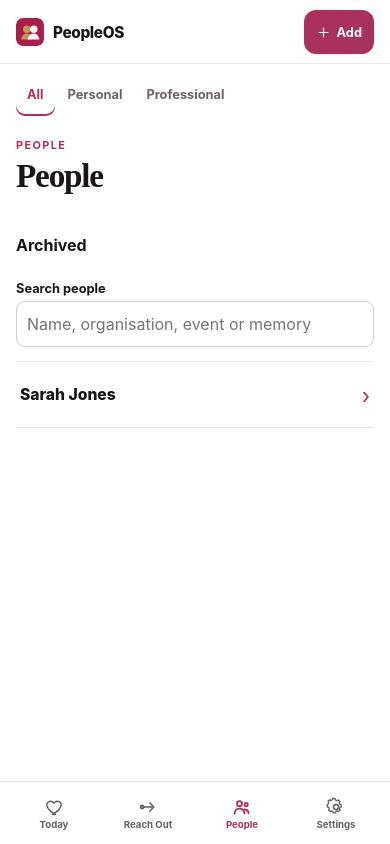
Test case: simple Profile and Person lifecycle UI › preserves People directory search and scroll after opening a Profile
In the search field labelled "Search people": [195, 324] box [16,302,374,348], type "Sarah"
(page scrolled)
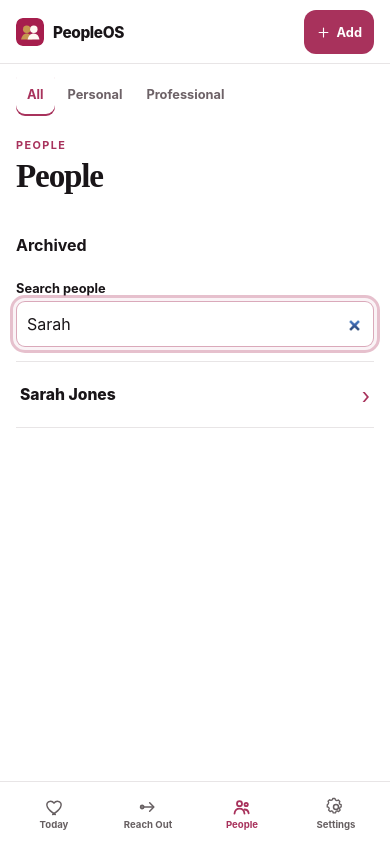
Click the link "Sarah Jones": [68, 395] box [16,362,374,428]
(page scrolled)
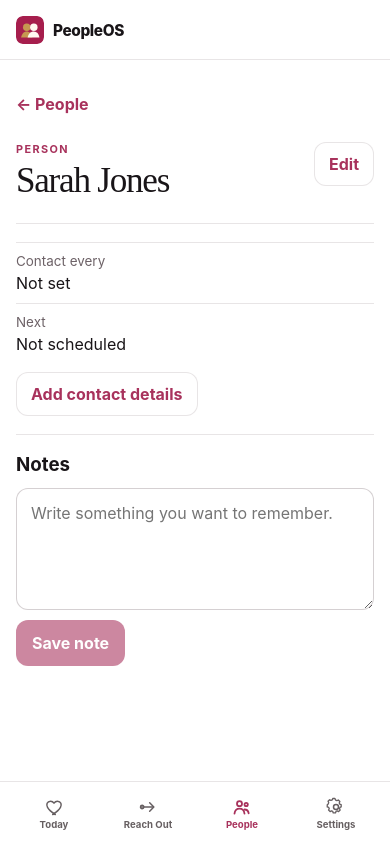
Check: the heading "Sarah Jones" is shown, box [16,163,169,199]
Click the button "← People": [52, 104] box [16,82,89,126]
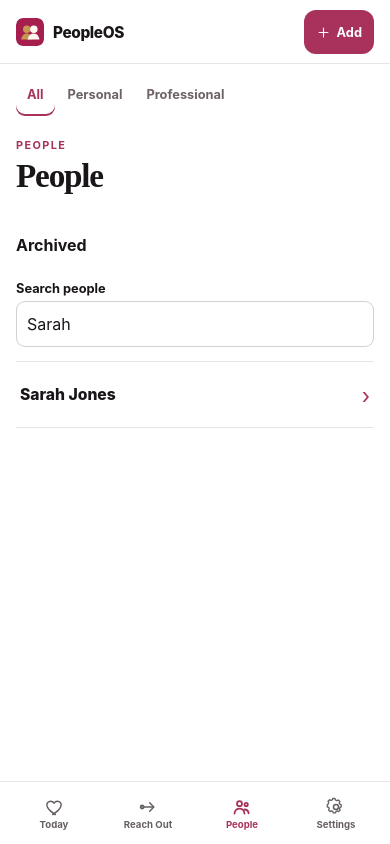
Check: the search field labelled "Search people" holds "Sarah", box [16,302,374,348]
